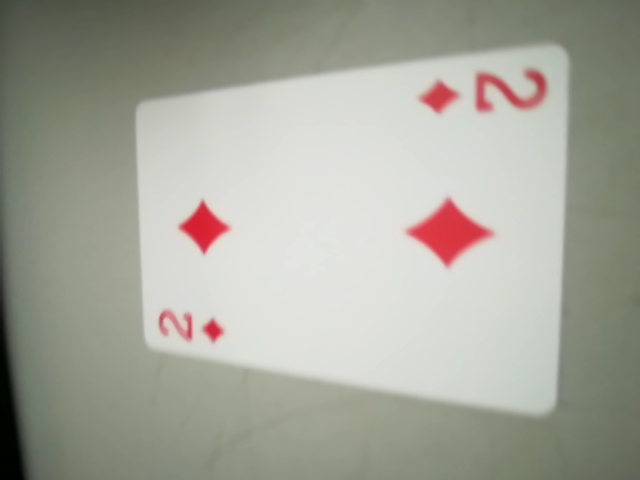fk 2: (413, 56, 553, 128), (153, 298, 234, 353)
